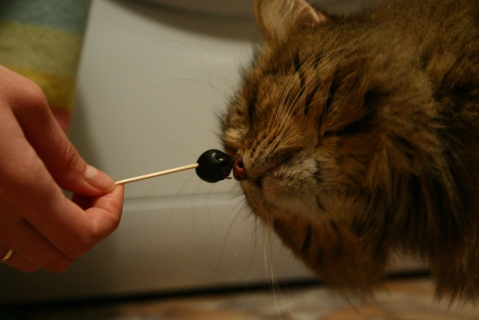Cat: (155, 0, 479, 319)
